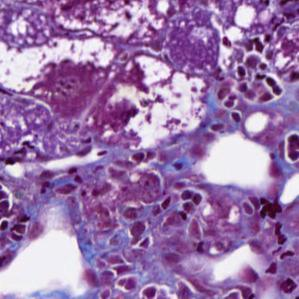inflammation: (228, 45, 286, 100)
